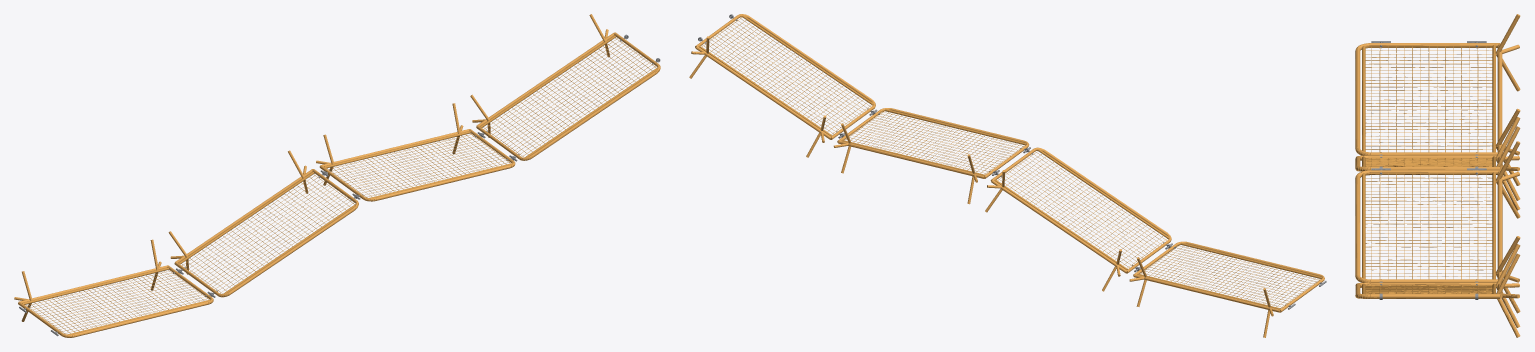
File: count-panel_count-4.glb
3 renders of one model, left to right at view 1: azimuth 30°, elevation 25°; view 2: azimuth 150°, elevation 25°; view 3: azimuth 270°, elevation 25°, orthographic. The views are drawn at different scales.
Parts seen in each view (by area): view 1: panel_0__infill, panel_0__frame; view 2: panel_0__infill, panel_0__frame; view 3: panel_0__infill, panel_0__frame, panel_0__eye_top.
Part boxes in pixels (x1=…): panel_0__infill: x1=22, y1=35, x2=657, y2=334; panel_0__frame: x1=14, y1=14, x2=660, y2=337; panel_0__infill: x1=699, y1=15, x2=1321, y2=309; panel_0__frame: x1=689, y1=14, x2=1324, y2=337; panel_0__infill: x1=1362, y1=45, x2=1495, y2=293; panel_0__frame: x1=1355, y1=14, x2=1520, y2=337; panel_0__eye_top: x1=1371, y1=41, x2=1486, y2=299.
Bounding box in the file's own units: 8.15 × 2.18 × 1.28.
